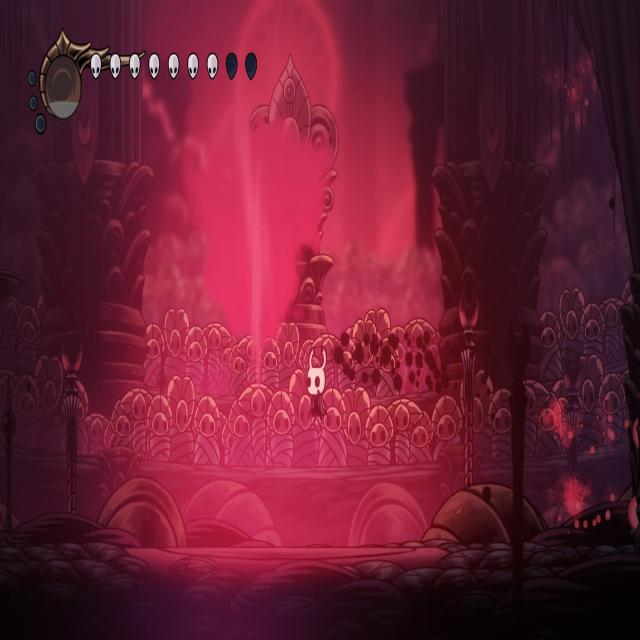Player: (304, 339, 329, 426)
